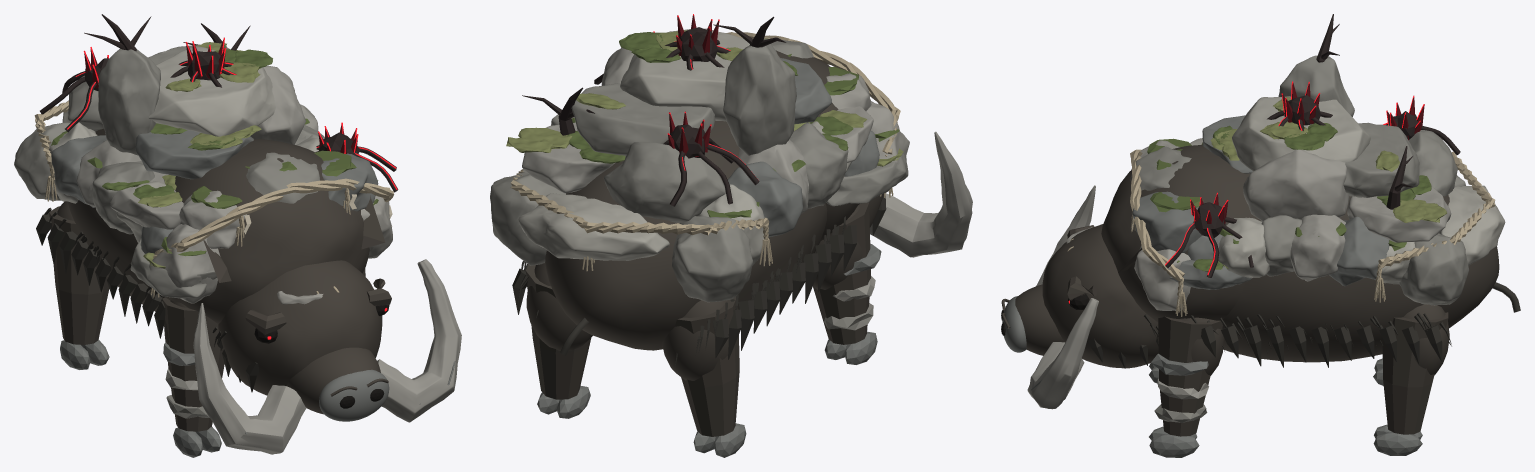
Rendered from Ishibashiri.fbx.
3 renders of one model, left to right at view 1: azimuth 30°, elevation 25°; view 2: azimuth 150°, elevation 25°; view 3: azimuth 270°, elevation 25°, orthographic. The views are drawn at different scales.
Parts seen in each view (by area): view 1: Shoulder_hump, Lowered_head, CLIMB_Terrace_03, Monument_tusk_-1, Monument_tusk_1, Mountain_spine, Leg_-1_1, CLIMB_Terrace_02, Leg_-1_0, Tapered_muzzle, Boar_barrel, Mountain_flank (+33 smaller); view 2: Boar_barrel, Mountain_spine.002, Mountain_spine, Mountain_spine.003, Monument_tusk_-1, CLIMB_Terrace_04, Mountain_flank.007, CLIMB_Terrace_03, Leg_-1_1, Mountain_flank.015, Leg_-1_0, Mountain_flank.005 (+40 smaller); view 3: Boar_barrel, Lowered_head, Shoulder_hump, Mountain_spine.001, CLIMB_Terrace_03, Leg_1_1, Mountain_flank.015, Leg_1_0, CLIMB_Terrace_04, Monument_tusk_1, Mountain_flank.012, CLIMB_Terrace_05 (+34 smaller).
Boxes of the visible parts, <box> form: Shoulder_hump: <box>165,139,369,323</box>; Lowered_head: <box>218,260,382,395</box>; CLIMB_Terrace_03: <box>148,46,275,136</box>; Monument_tusk_-1: <box>193,303,306,454</box>; Monument_tusk_1: <box>377,259,461,422</box>; Mountain_spine: <box>98,48,160,155</box>; Leg_-1_1: <box>49,206,109,344</box>; CLIMB_Terrace_02: <box>135,130,253,179</box>; Leg_-1_0: <box>162,297,224,431</box>; Tapered_muzzle: <box>287,347,380,414</box>; Boar_barrel: <box>67,128,163,311</box>; Mountain_flank: <box>149,224,220,303</box>; Boar_barrel: <box>545,121,827,350</box>; Mountain_spine.002: <box>604,142,725,222</box>; Mountain_spine: <box>723,39,796,155</box>; Mountain_spine.003: <box>518,193,669,260</box>; Monument_tusk_-1: <box>870,131,972,257</box>; CLIMB_Terrace_04: <box>571,83,715,156</box>; Mountain_flank.007: <box>672,216,752,302</box>; CLIMB_Terrace_03: <box>620,28,749,121</box>; Leg_-1_1: <box>674,296,739,436</box>; Mountain_flank.015: <box>490,171,565,265</box>; Leg_-1_0: <box>813,202,870,344</box>; Mountain_flank.005: <box>723,161,802,237</box>; Boar_barrel: <box>1222,195,1499,362</box>; Lowered_head: <box>1042,224,1158,368</box>; Shoulder_hump: <box>1101,145,1258,321</box>; Mountain_spine.001: <box>1243,149,1349,221</box>; CLIMB_Terrace_03: <box>1232,96,1370,171</box>; Leg_1_1: <box>1382,312,1448,434</box>; Mountain_flank.015: <box>1399,233,1468,305</box>; Leg_1_0: <box>1158,316,1222,436</box>; CLIMB_Terrace_04: <box>1343,122,1419,197</box>; Monument_tusk_1: <box>1027,298,1098,409</box>; Mountain_flank.012: <box>1290,214,1345,281</box>; CLIMB_Terrace_05: <box>1347,186,1451,242</box>.
Size of the model in its own units: 706 by 1218 by 940.
